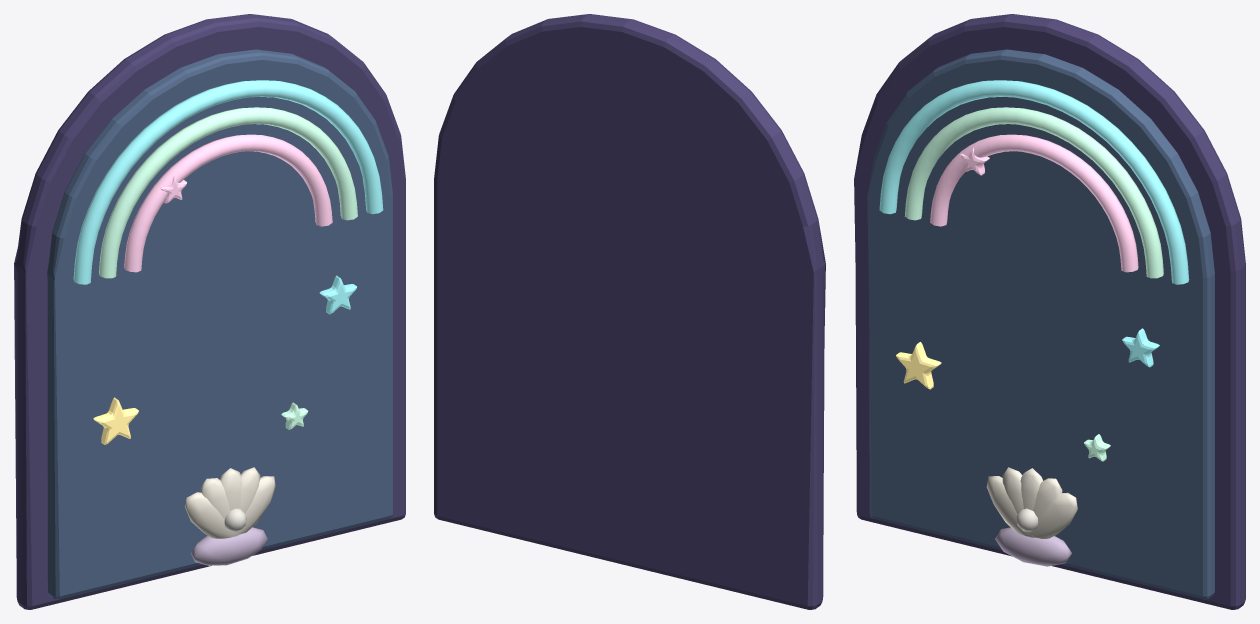
The model's file is pearl_opera_vista.glb.
The picture shows the model from 3 angles, left to right: view 1: azimuth 30°, elevation 25°; view 2: azimuth 150°, elevation 25°; view 3: azimuth 330°, elevation 25°; orthographic projection.
Parts seen in each view (by area): view 1: pearl_opera_vista.001; view 2: pearl_opera_vista.001; view 3: pearl_opera_vista.001.
Boxes of the visible parts, x1,y1,x2,y2 form: pearl_opera_vista.001: (14, 14, 405, 609); pearl_opera_vista.001: (434, 14, 825, 609); pearl_opera_vista.001: (854, 14, 1245, 609).
Size of the model in its own units: 5.44 by 7.36 by 0.8732.
